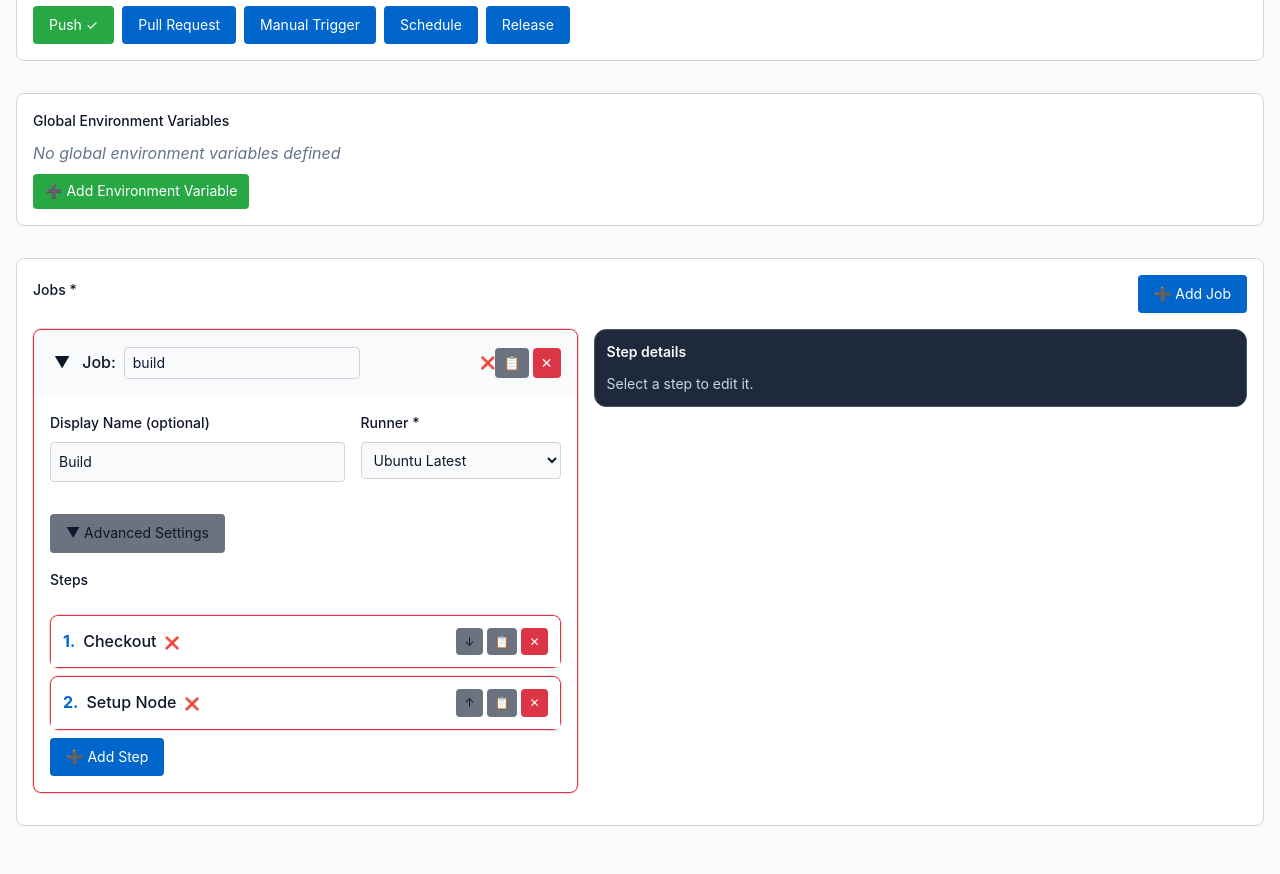
Scenario: GUIWorkflowEditor step detail panel › gives an added step a unique id after a middle step was deleted
(page scrolled)
Step 1. Click the 2nd button titled "Remove step" → (535, 642), box [522,628,548,656]
(page scrolled)
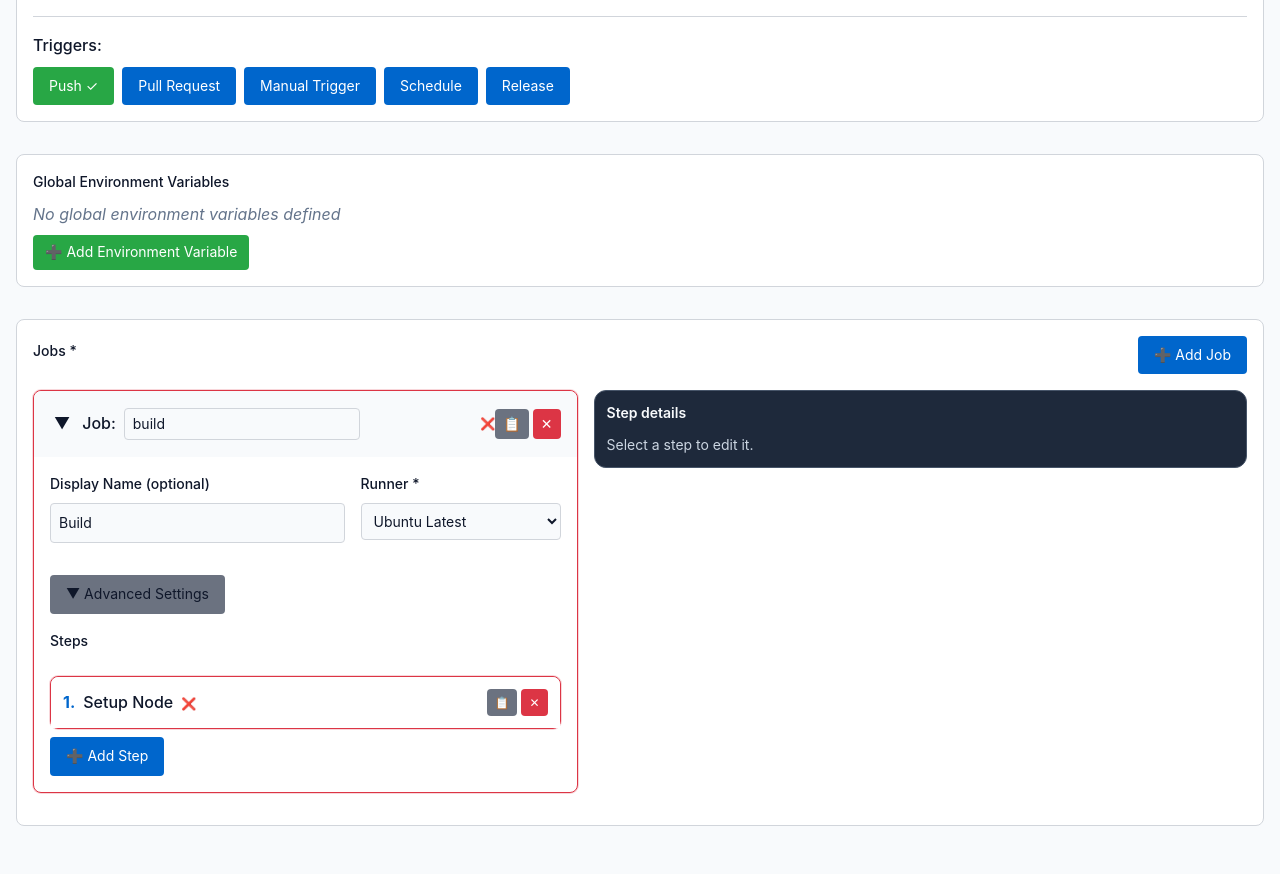
Step 2. Click the button "➕ Add Step" → (107, 757), box [50,737,164,776]
(page scrolled)
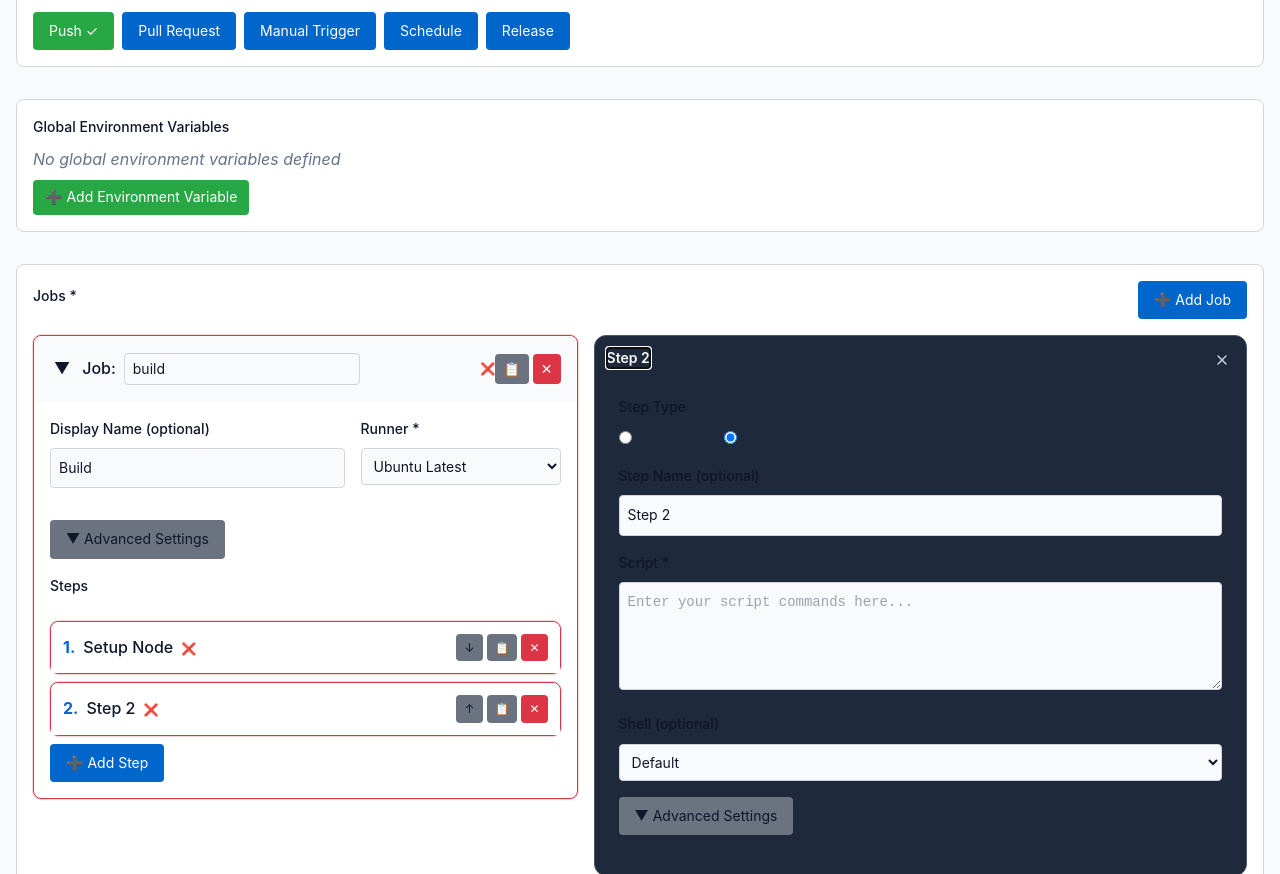
Expected: the number of fields labelled "Step Name (optional)" is 1, [618,495,1222,536]
Expected: the field labelled "Step Name (optional)" holds "Step 2", [618,495,1222,536]
